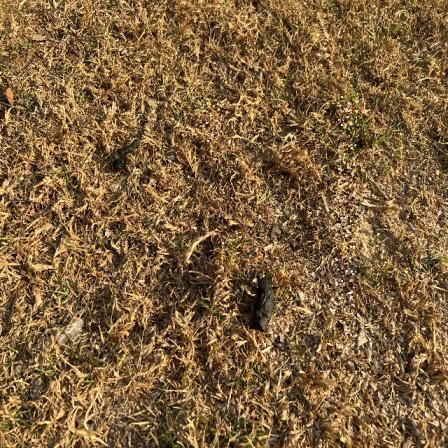dog-poop: (248, 269, 280, 341), (106, 133, 151, 179)
